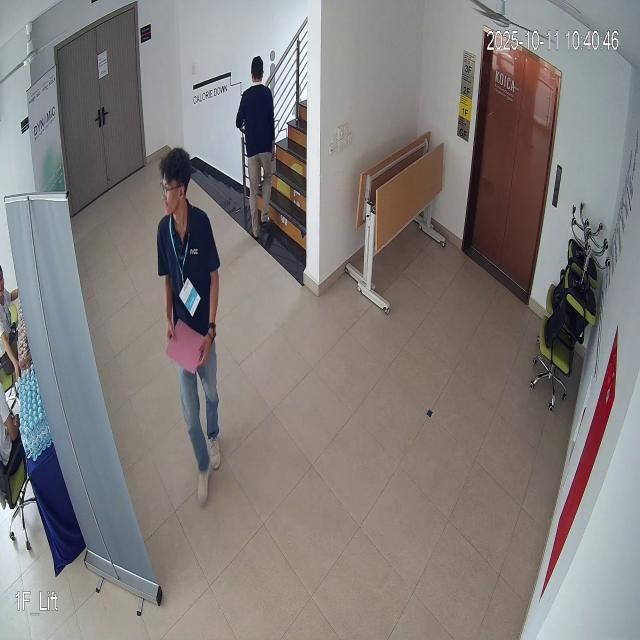face: (156, 138, 197, 223)
